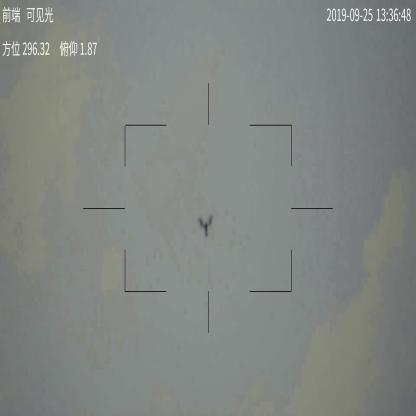uav: (198, 213, 215, 238)
